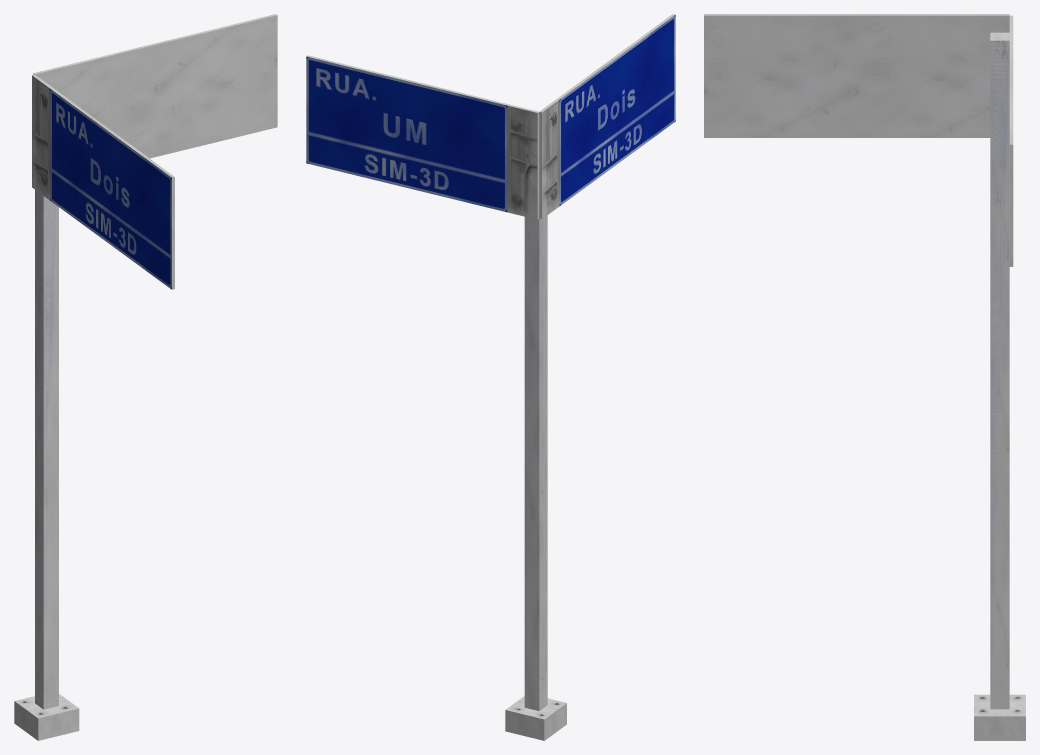
File: PlacaEnd.FBX
The picture shows the model from 3 angles, left to right: view 1: azimuth 30°, elevation 25°; view 2: azimuth 150°, elevation 25°; view 3: azimuth 270°, elevation 25°; orthographic projection. The views are drawn at different scales.
Visible parts, largest first — view 1: PlacaEndA; view 2: PlacaEndA; view 3: PlacaEndA.
Part boxes in pixels (x1,y1,x2,y2): PlacaEndA: [14, 14, 277, 740]; PlacaEndA: [306, 14, 675, 740]; PlacaEndA: [704, 14, 1025, 740].
Size of the model in its own units: 0.8428 by 2.05 by 0.8428.
4 materials, 3 textured.
